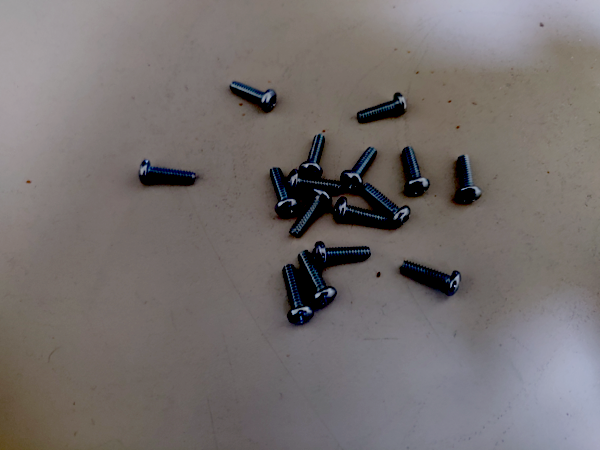shortscrew: (298, 251, 337, 308), (402, 261, 462, 297), (362, 184, 411, 228), (290, 187, 333, 237), (283, 264, 314, 324), (334, 197, 389, 227), (270, 167, 301, 218), (342, 147, 378, 190), (229, 81, 278, 112), (358, 91, 407, 122), (139, 159, 197, 184), (286, 169, 343, 194), (402, 147, 430, 196), (314, 242, 371, 266), (455, 155, 483, 203), (298, 132, 325, 179)
